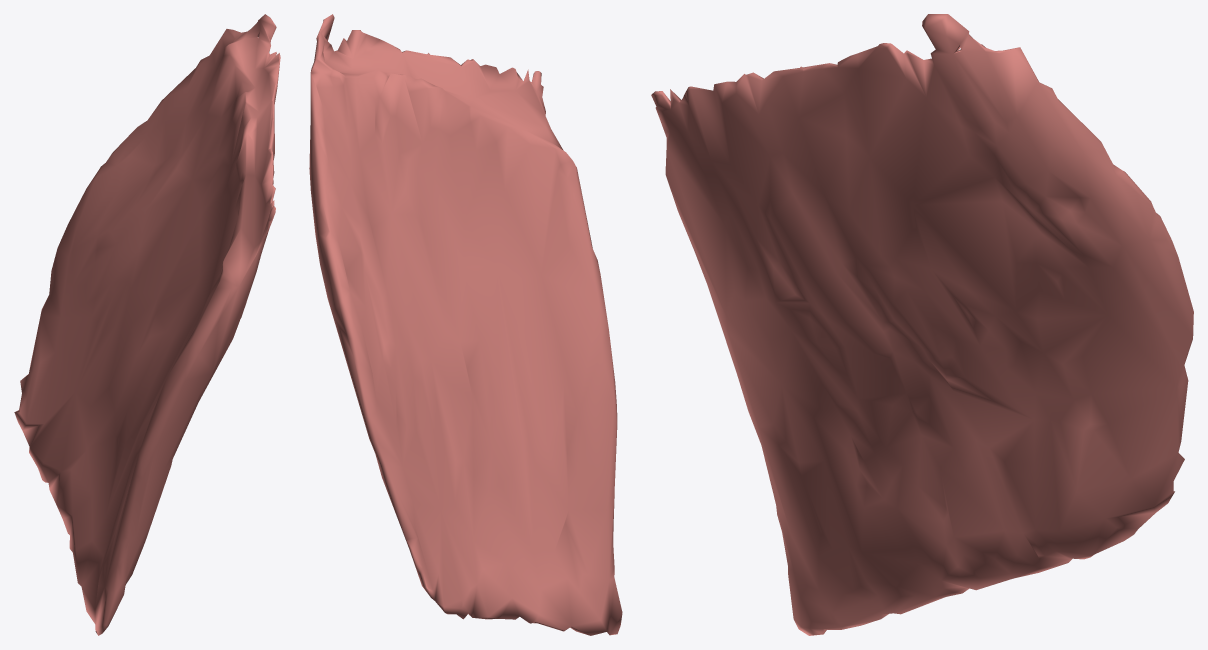
The picture shows the model from 3 angles, left to right: view 1: azimuth 30°, elevation 25°; view 2: azimuth 150°, elevation 25°; view 3: azimuth 270°, elevation 25°; orthographic projection. The views are drawn at different scales.
Visible parts, largest first — view 1: ZA_2ddfde5198e81a6c; view 2: ZA_2ddfde5198e81a6c; view 3: ZA_2ddfde5198e81a6c.
Part boxes in pixels (<box>): ZA_2ddfde5198e81a6c: <box>14,14,280,635</box>; ZA_2ddfde5198e81a6c: <box>309,14,622,635</box>; ZA_2ddfde5198e81a6c: <box>651,14,1193,635</box>.
Bounding box in the file's own units: 0.0266 × 0.0621 × 0.0395.
